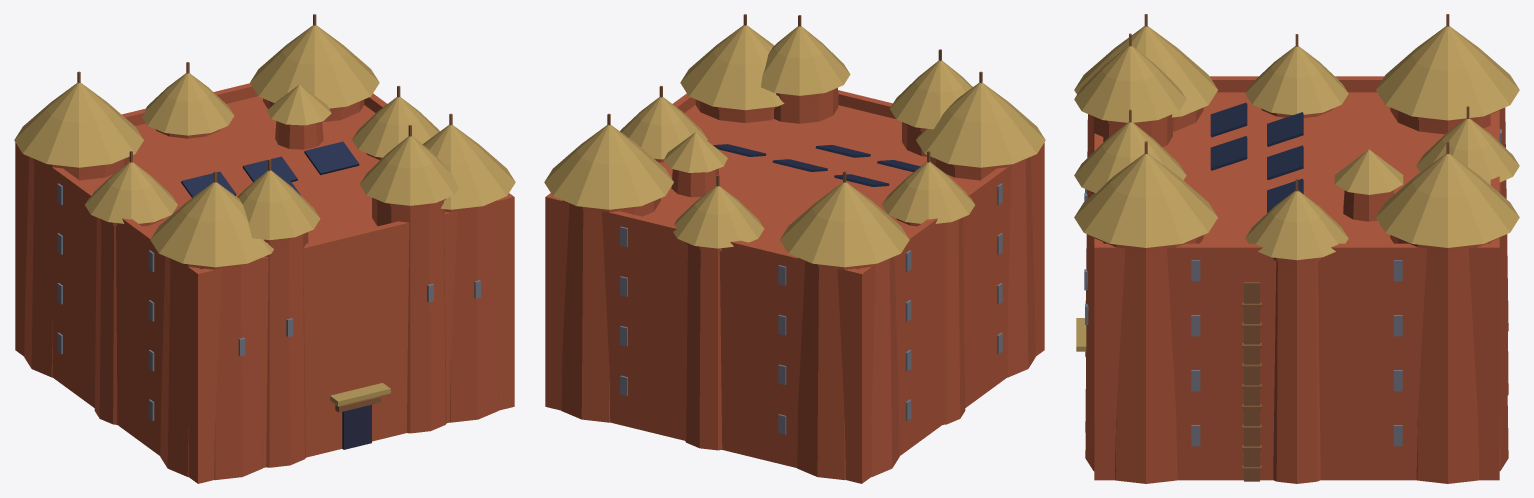
File: house-2x2-4f-tata-a-solar.glb
3 views of the same model, side by side, from view 1: azimuth 30°, elevation 25°; view 2: azimuth 150°, elevation 25°; view 3: azimuth 270°, elevation 25° (orthographic). The views are drawn at different scales.
Visible parts, largest first — view 1: house-2x2-4f-tata-a-solar; view 2: house-2x2-4f-tata-a-solar; view 3: house-2x2-4f-tata-a-solar.
Boxes of the visible parts, x1,y1,x2,y2 form: house-2x2-4f-tata-a-solar: (14, 14, 515, 483); house-2x2-4f-tata-a-solar: (544, 14, 1045, 483); house-2x2-4f-tata-a-solar: (1074, 14, 1519, 483).
Bounding box in the file's own units: 1.98 × 1.58 × 1.98.
Materials: 1 (1 with a texture image).
